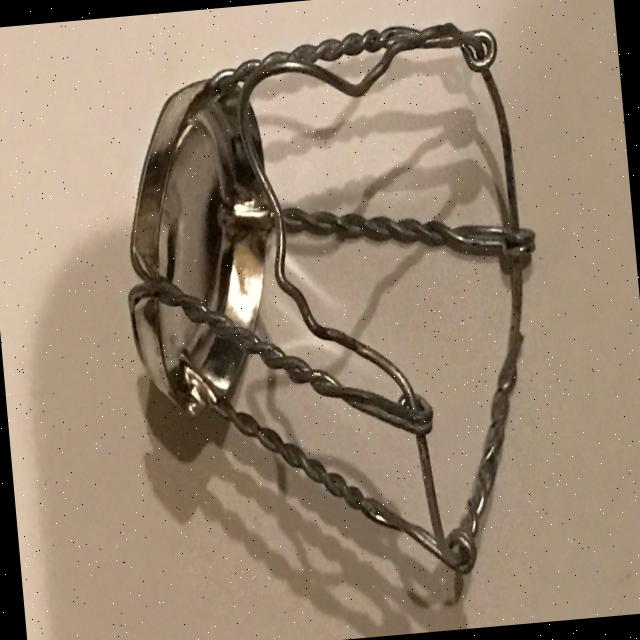metal: (106, 14, 564, 602)
